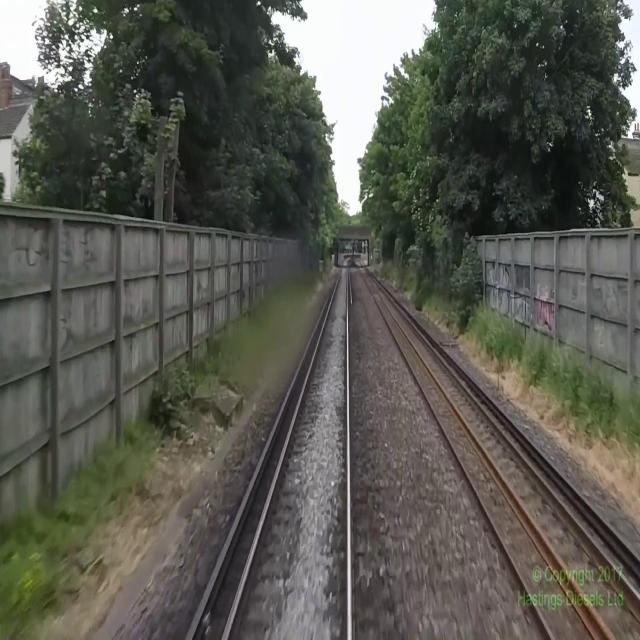rail-track: (358, 265, 640, 639), (228, 261, 347, 639)
